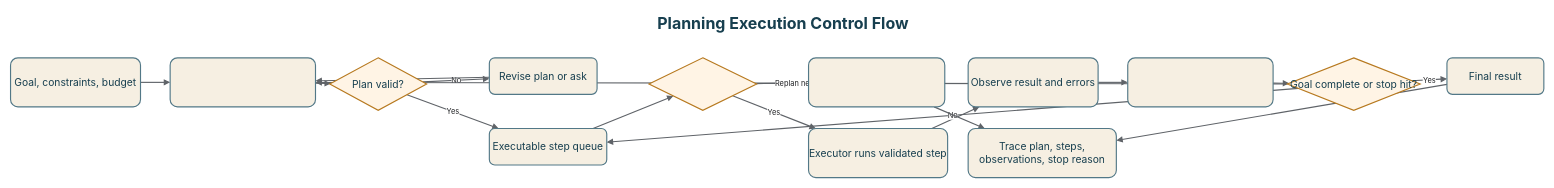
Image size: 1554x188. Some labels were removed from this diagram. Each missing label, with the centre of its shape:
Escalate, refuse, or replan: point 876,82
Next step allowed?: point 702,84
Planner proposes ordered steps: point 242,82
Update progress, budget, trace: point 1200,82
